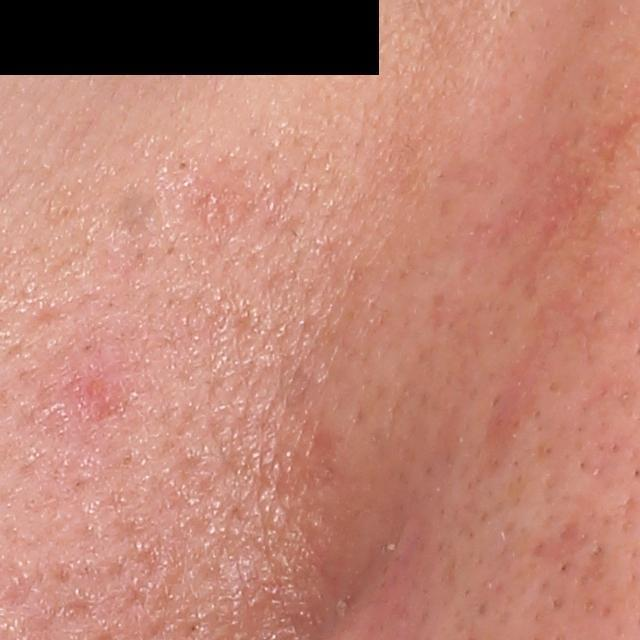comedo: (177, 157, 191, 171)
other: (115, 180, 165, 235)
